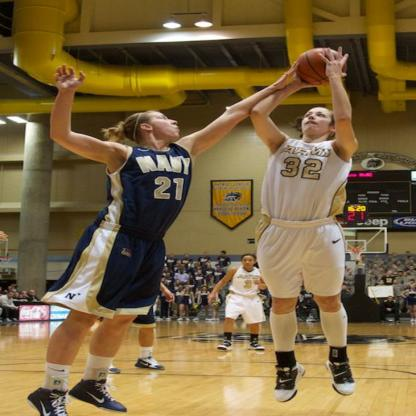Ball: (298, 49, 348, 83)
